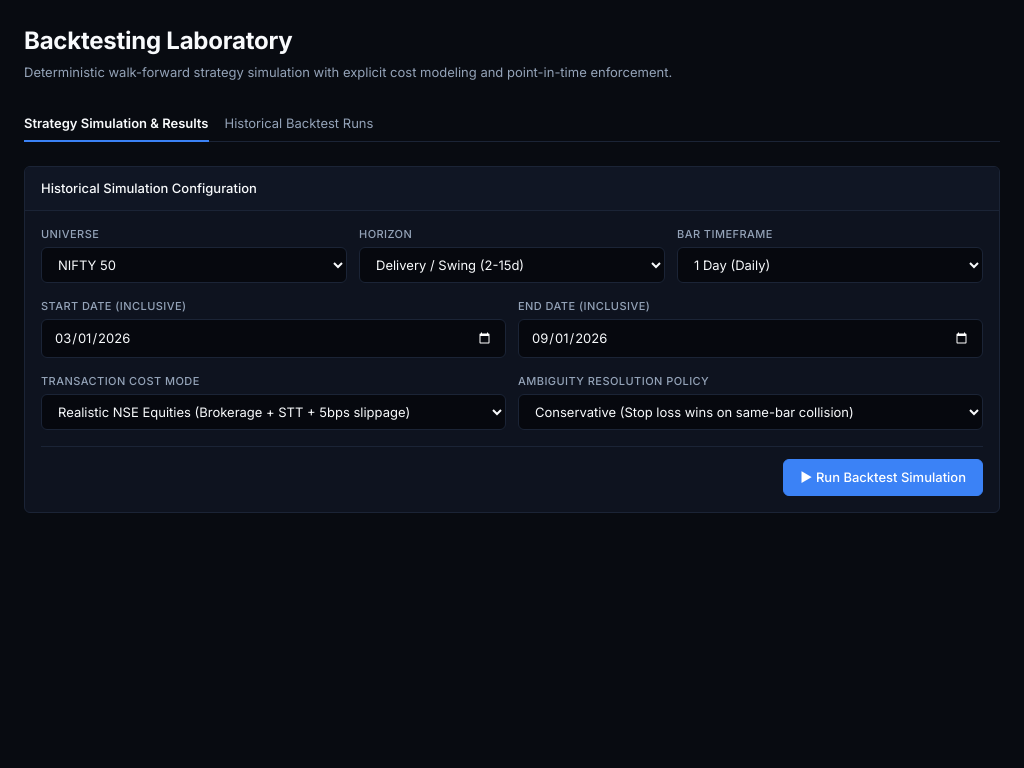
BacktestsPage (FE-7) › submits a backtest run and displays performance KPIs, biases, and breakdowns
The width and height of the screenshot is (1024, 768).
Click the button with test id "run-backtest-button" at [883, 477], box [783, 459, 983, 496]
(page scrolled)
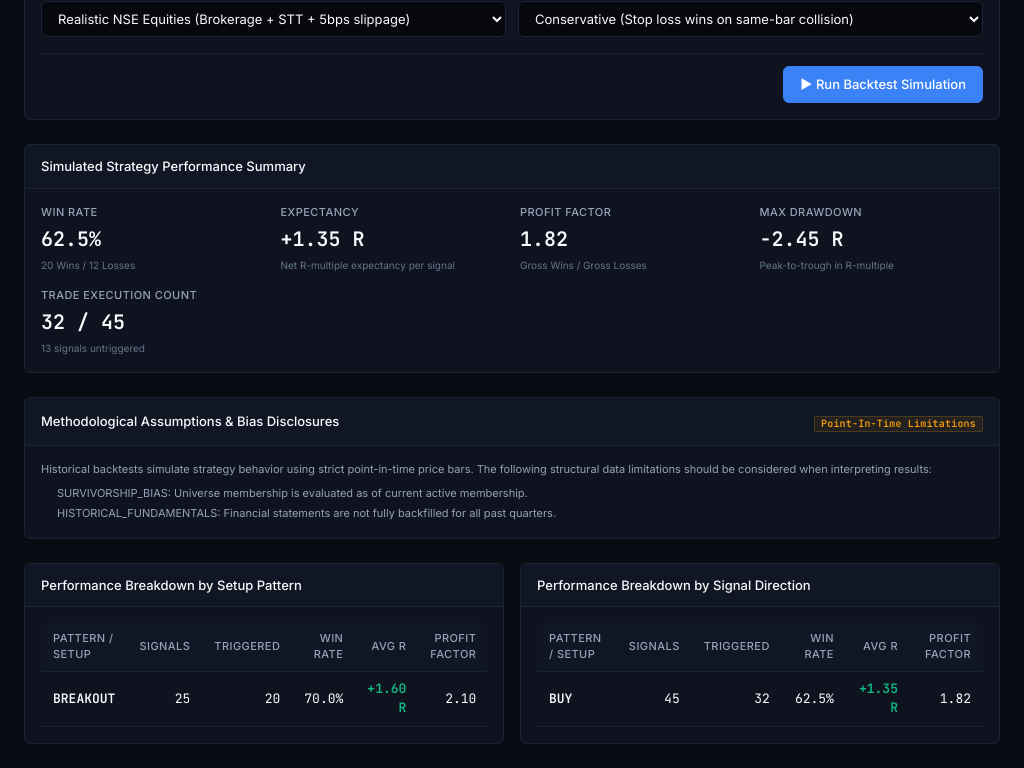
expect the element with test id "backtest-results-container" is shown: met
expect the text "+1.35 R" in the row of "-2.45 R" is shown: met, box [280, 226, 364, 252]
expect the text "1.82" in the row of "-2.45 R" is shown: met, box [520, 226, 568, 252]
